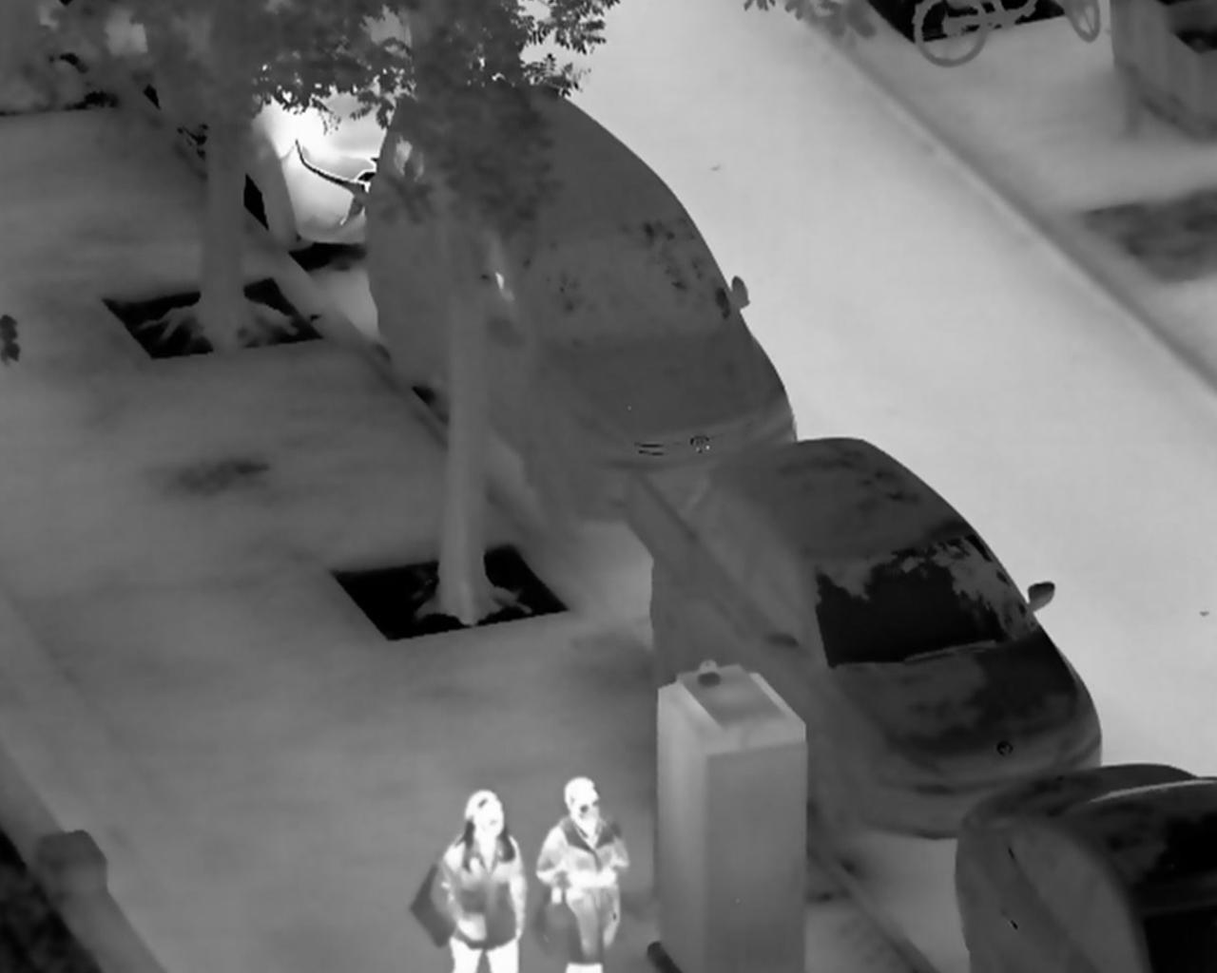person: (531, 776, 631, 973), (426, 790, 528, 973)
